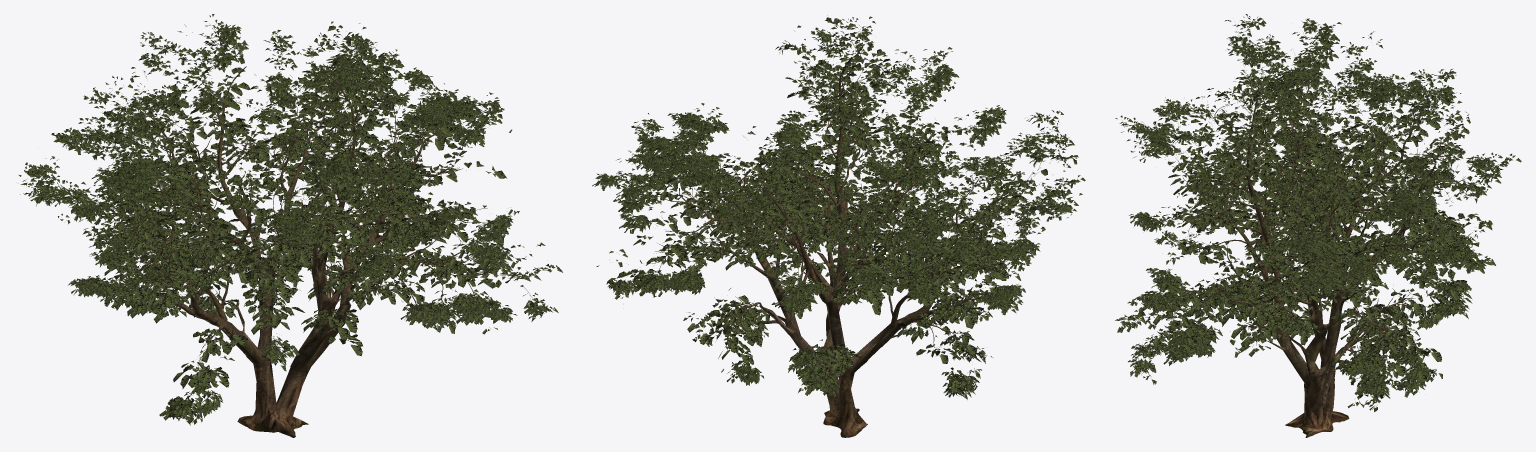
Rendered from jacaranda-tree-v1.glb.
3 renders of one model, left to right at view 1: azimuth 30°, elevation 25°; view 2: azimuth 150°, elevation 25°; view 3: azimuth 270°, elevation 25°, orthographic. The views are drawn at different scales.
Parts seen in each view (by area): view 1: jacaranda_tree_LOD0; view 2: jacaranda_tree_LOD0; view 3: jacaranda_tree_LOD0.
Boxes of the visible parts, left/top/right/bottom form: jacaranda_tree_LOD0: left=19, top=14, right=562, bottom=437; jacaranda_tree_LOD0: left=592, top=15, right=1085, bottom=437; jacaranda_tree_LOD0: left=1115, top=14, right=1521, bottom=437.
Bounding box in the file's own units: 24.16 × 19.41 × 19.05.
3 materials, 3 textured.
